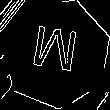M_S: (29, 25, 82, 81)
